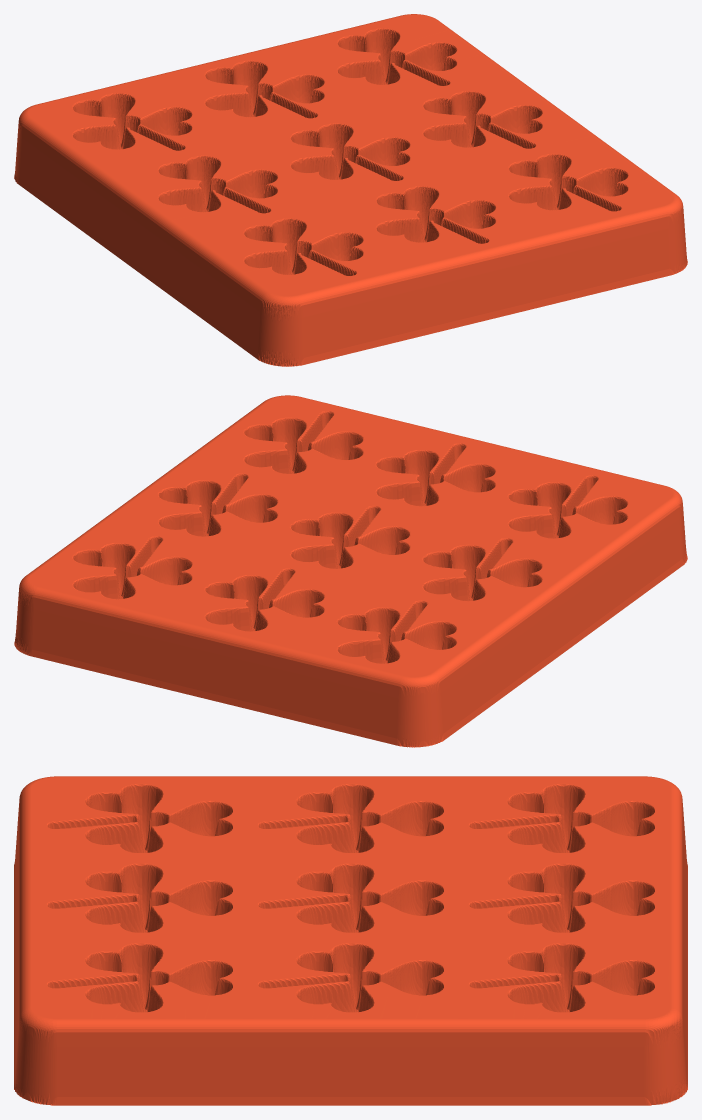
Rendered from mold.glb.
The picture shows the model from 3 angles, top to bottom: view 1: azimuth 30°, elevation 25°; view 2: azimuth 150°, elevation 25°; view 3: azimuth 270°, elevation 25°; orthographic projection. The views are drawn at different scales.
Parts seen in each view (by area): view 1: geometry_0; view 2: geometry_0; view 3: geometry_0.
Boxes of the visible parts, x1,y1,x2,y2 form: geometry_0: (14,14,687,366); geometry_0: (14,395,687,747); geometry_0: (14,776,687,1105).
Bounding box in the file's own units: 0.126 × 0.0182 × 0.1402.
